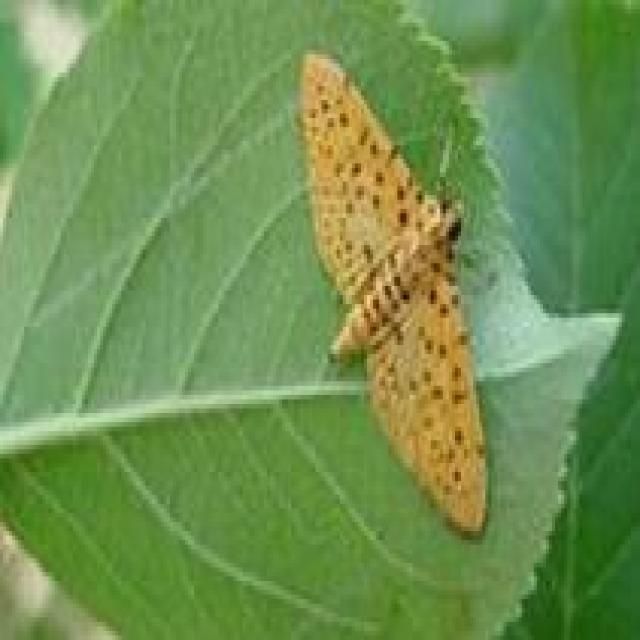peach borer: (291, 46, 512, 546)
